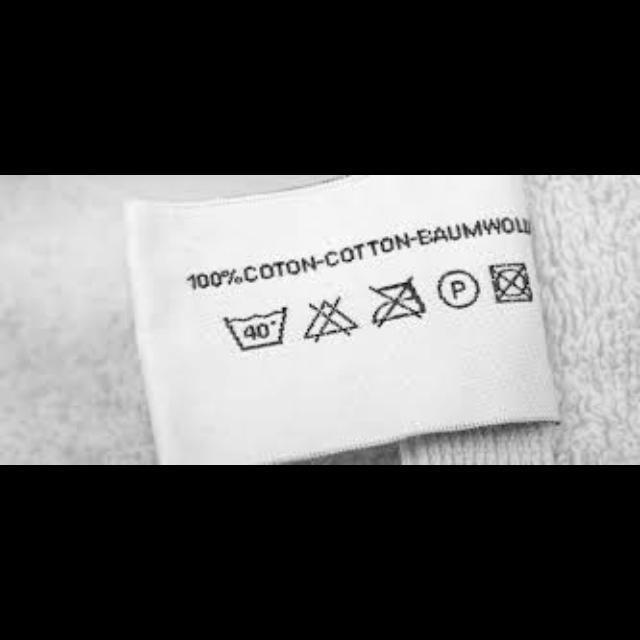40C: (218, 306, 290, 354)
DN_bleach: (301, 294, 361, 346)
DN_iron: (366, 273, 429, 329)
DN_tumble_dry: (486, 258, 538, 306)
normal_dry_clean_solvents: (436, 266, 482, 312)
